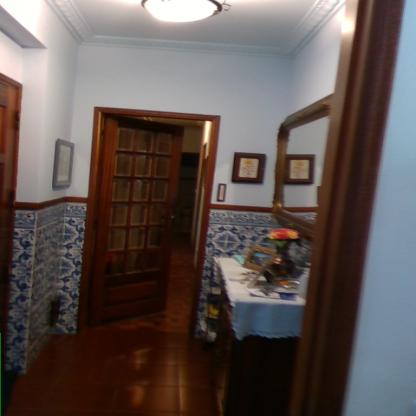semi: (76, 100, 224, 352)
